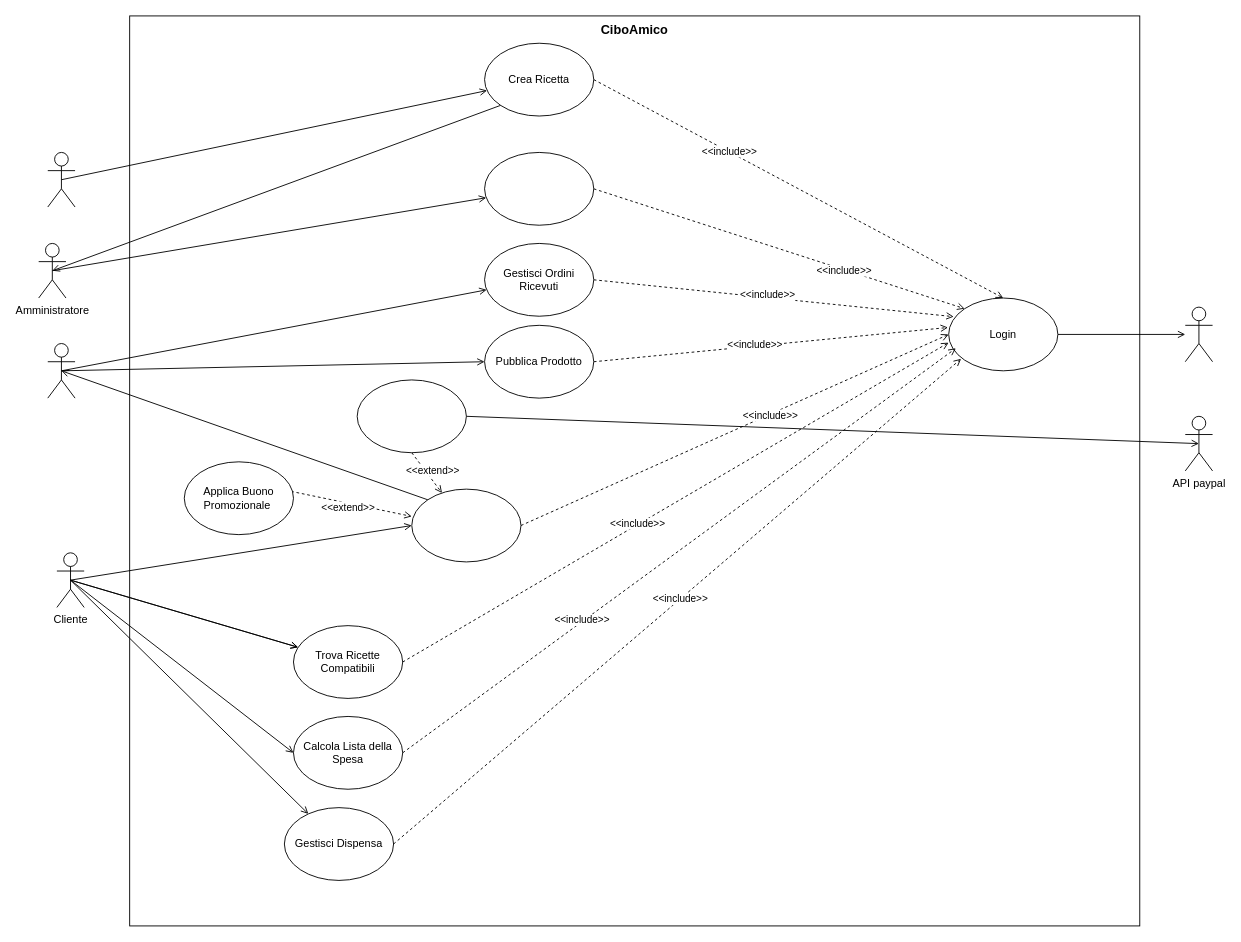
The diagram is 1241 pixels wide and 942 high, and some of its shapes have lost their labels. The shapes that lost their labels are listed below. From the top down, each one's box as (x1, y1, x2, y2) in pixels, then its label:
(47, 152, 75, 207): Nutrizionista
(484, 152, 594, 225): Gestisci approvazioni
(1184, 306, 1213, 362): Login API
(47, 343, 75, 398): Venditore
(356, 379, 466, 453): PAY
(411, 488, 521, 562): Ordina Prodotto
